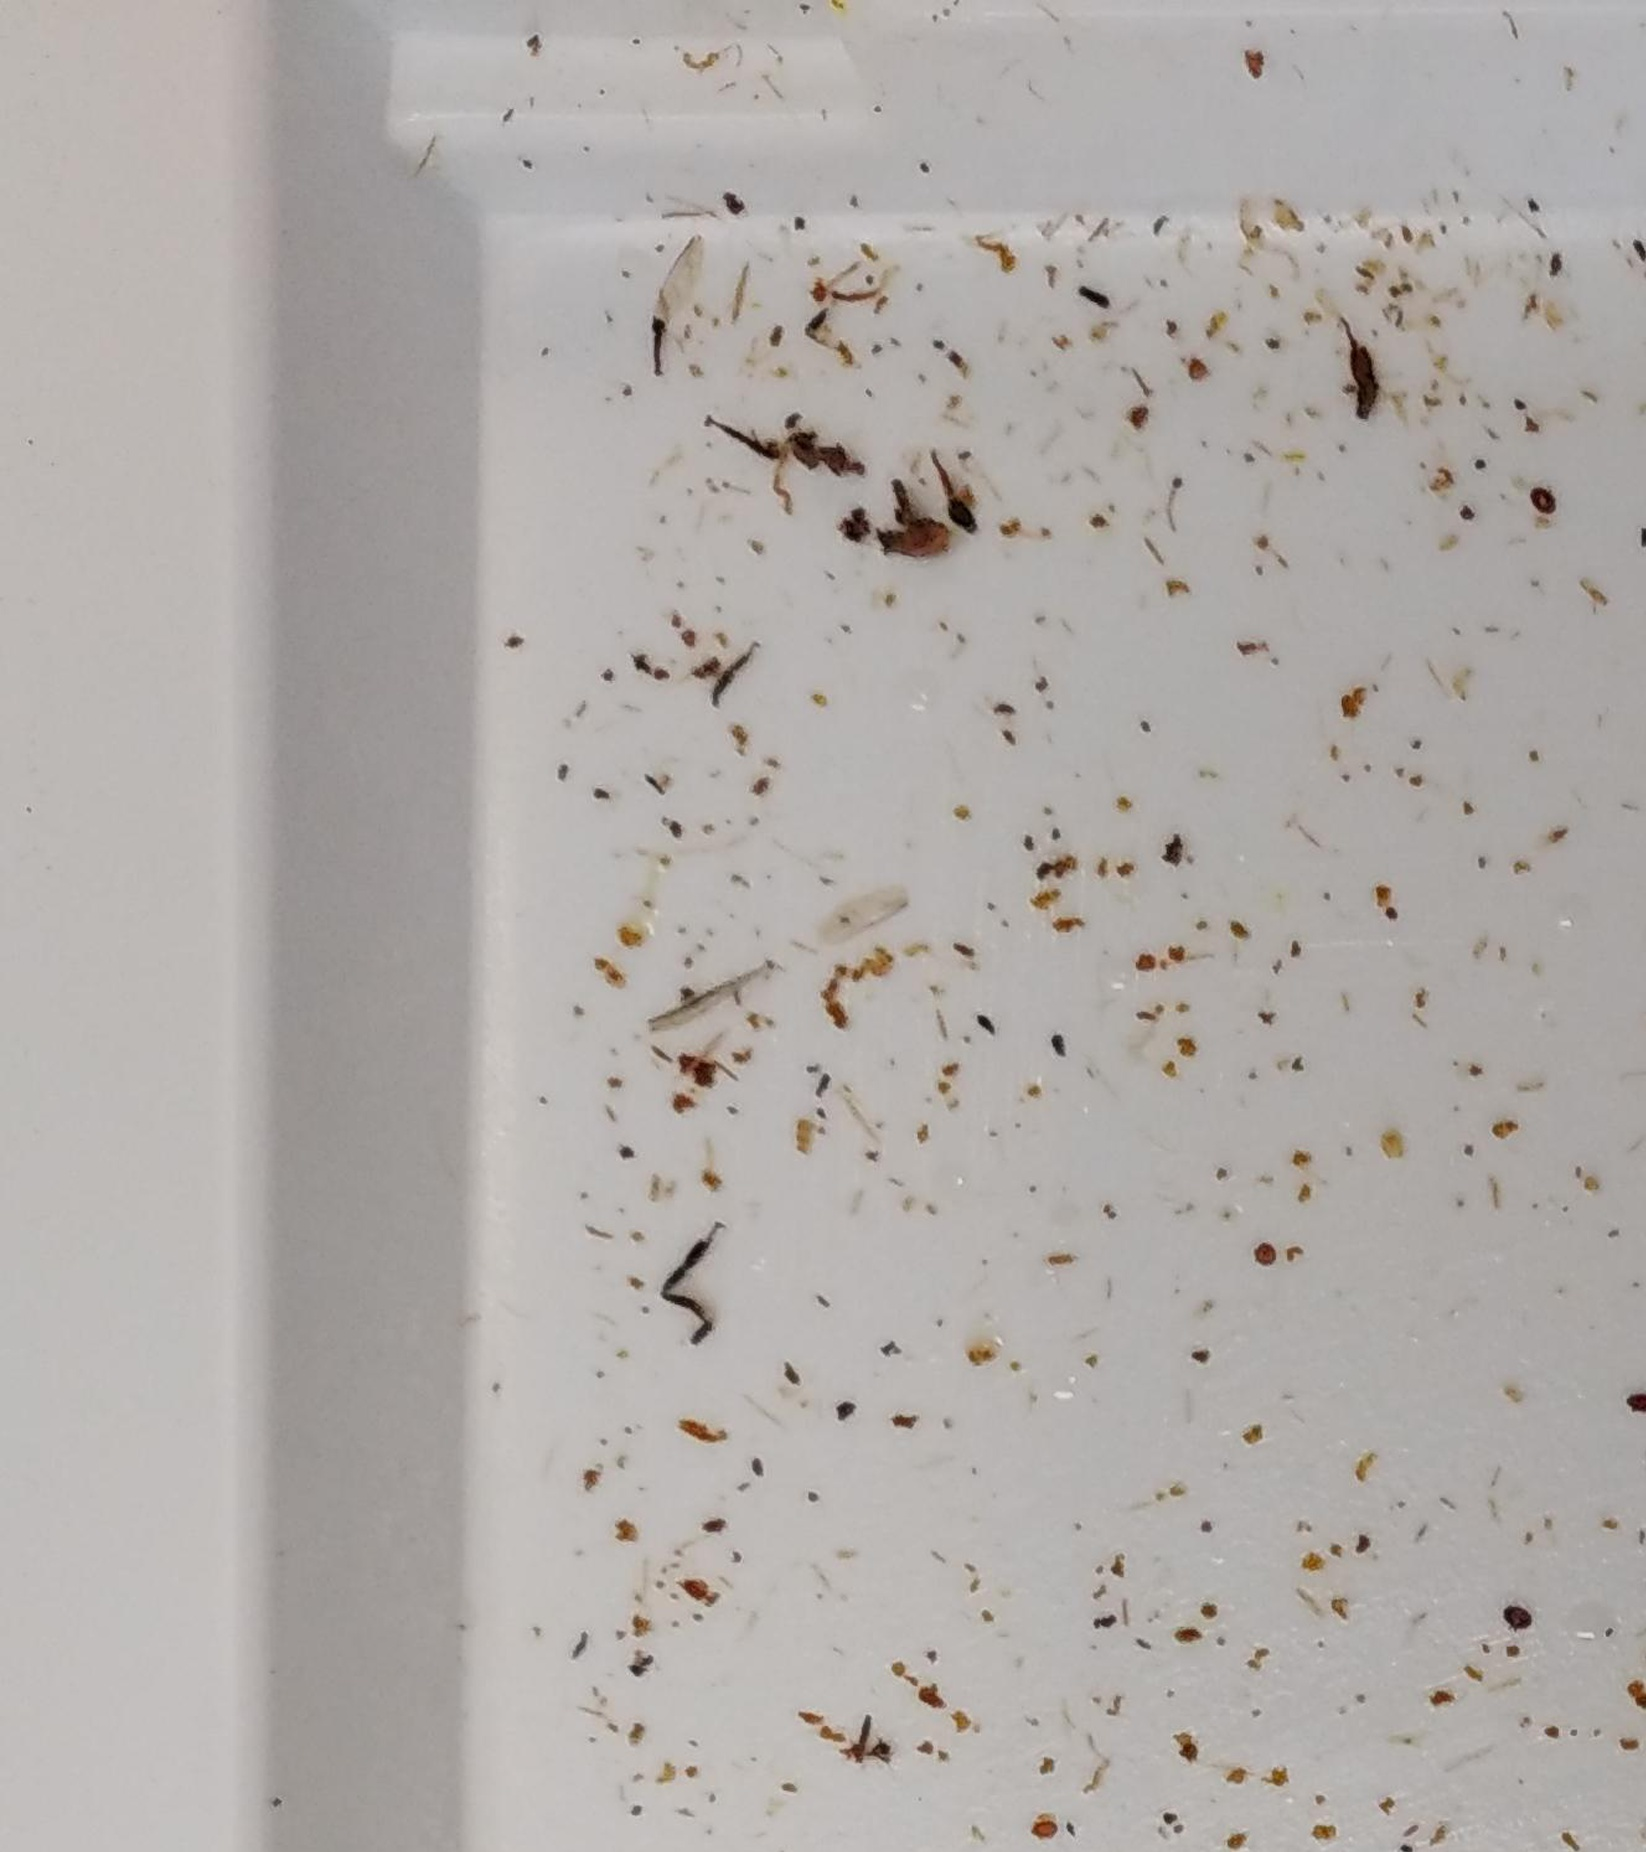Varroa: (1524, 484, 1567, 531), (1501, 1599, 1535, 1634)
